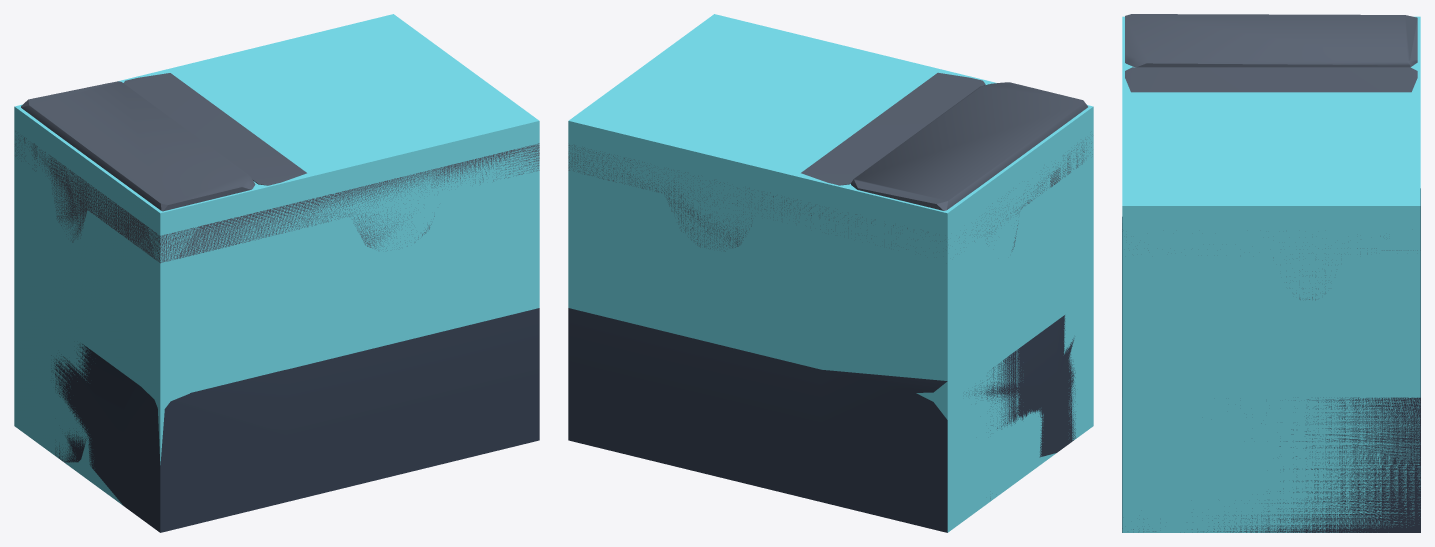
The model's file is PBOX32_MudFlA_01.FBX.
3 renders of one model, left to right at view 1: azimuth 30°, elevation 25°; view 2: azimuth 150°, elevation 25°; view 3: azimuth 270°, elevation 25°, orthographic. The views are drawn at different scales.
Visible parts, largest first — view 1: PBOX32_MudFlA_01, PBOX23_SUB_TAB_FlA_004, PBOX32_SUB_MudFlA_003; view 2: PBOX32_MudFlA_01, PBOX23_SUB_TAB_FlA_004, PBOX32_SUB_MudFlA_003; view 3: PBOX32_MudFlA_01, PBOX32_SUB_MudFlA_003, PBOX23_SUB_TAB_FlA_004.
Part boxes in pixels (x1,y1,x2,y2): PBOX32_MudFlA_01: (14,14,539,505); PBOX23_SUB_TAB_FlA_004: (51,308,539,532); PBOX32_SUB_MudFlA_003: (15,73,539,263); PBOX32_MudFlA_01: (568,14,1093,532); PBOX23_SUB_TAB_FlA_004: (568,308,1075,532); PBOX32_SUB_MudFlA_003: (568,72,1092,251); PBOX32_MudFlA_01: (1122,16,1420,532); PBOX32_SUB_MudFlA_003: (1125,14,1417,300); PBOX23_SUB_TAB_FlA_004: (1122,188,1420,532).
Size of the model in its own units: 18 by 14.73 by 12.
